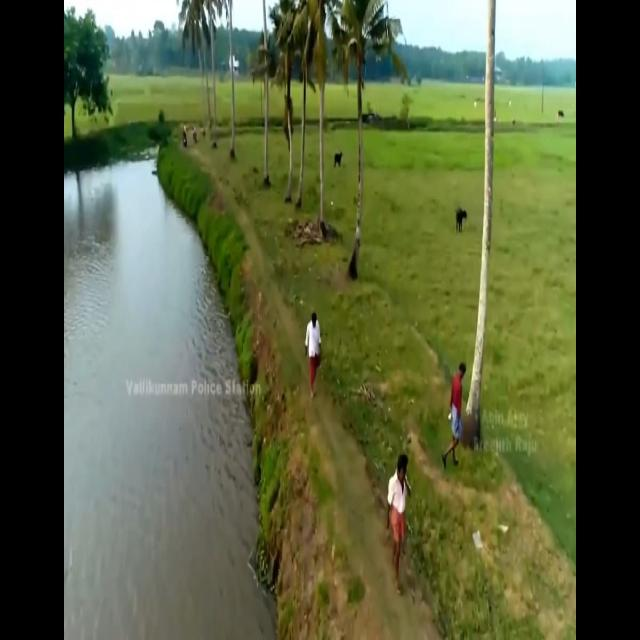humans: (384, 452, 413, 602), (441, 359, 466, 473), (304, 309, 323, 404)
